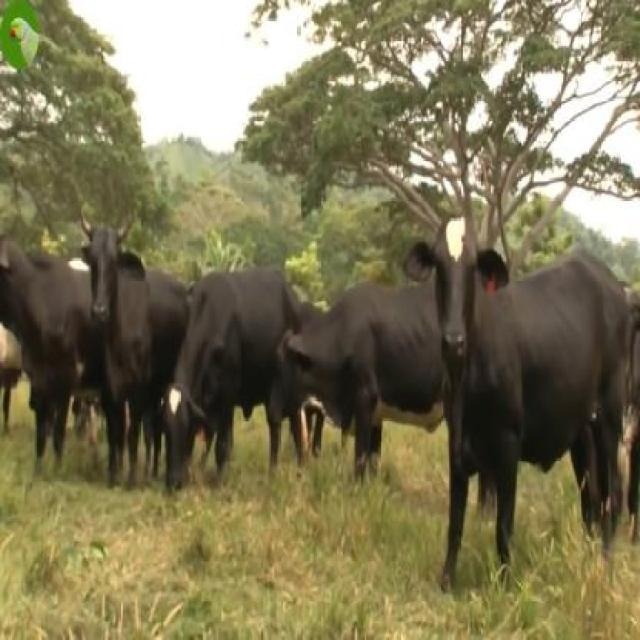Cow: (403, 218, 629, 590), (269, 278, 440, 480), (163, 263, 305, 497), (78, 214, 191, 477)
